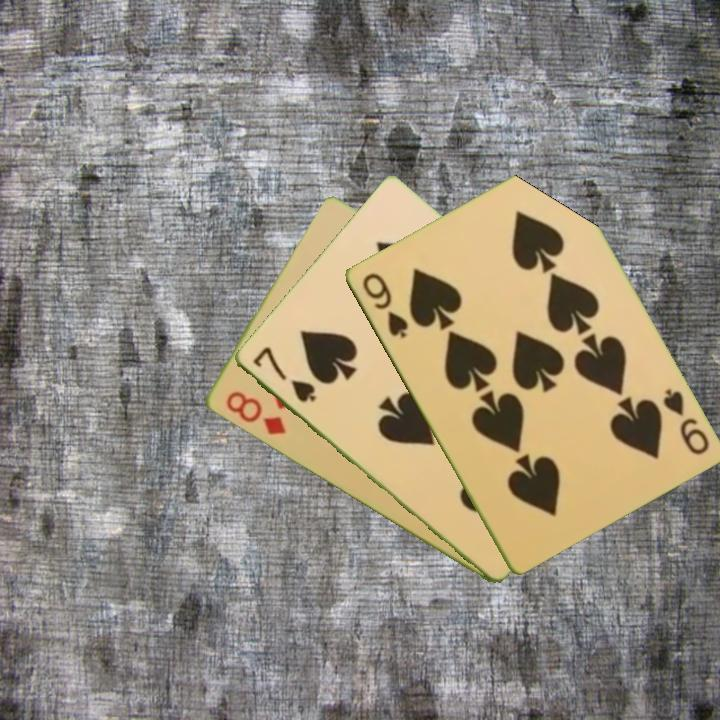7s: (248, 343, 319, 406)
8d: (221, 387, 289, 439)
9s: (659, 384, 712, 458), (358, 269, 411, 341)
